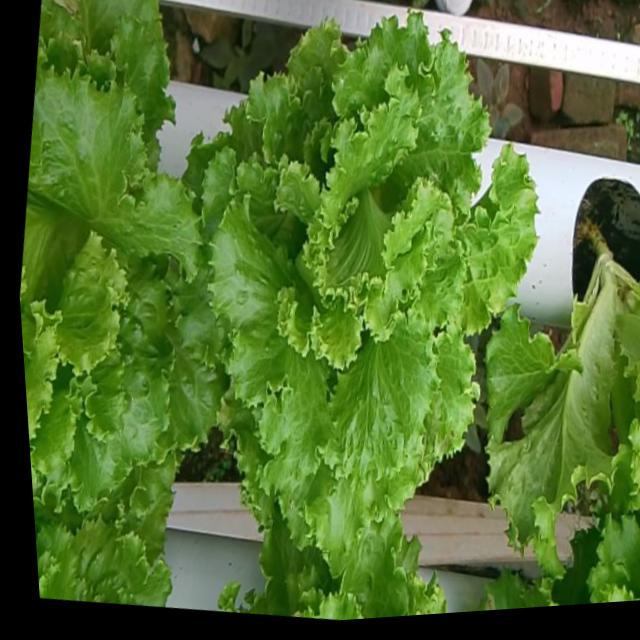Mature: (194, 2, 528, 538), (20, 52, 216, 500)
